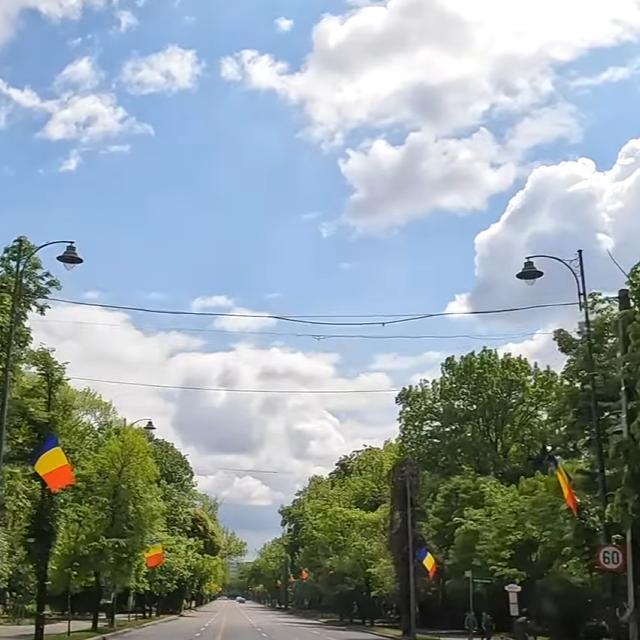forb_speed_over_60: (597, 544, 625, 571)
